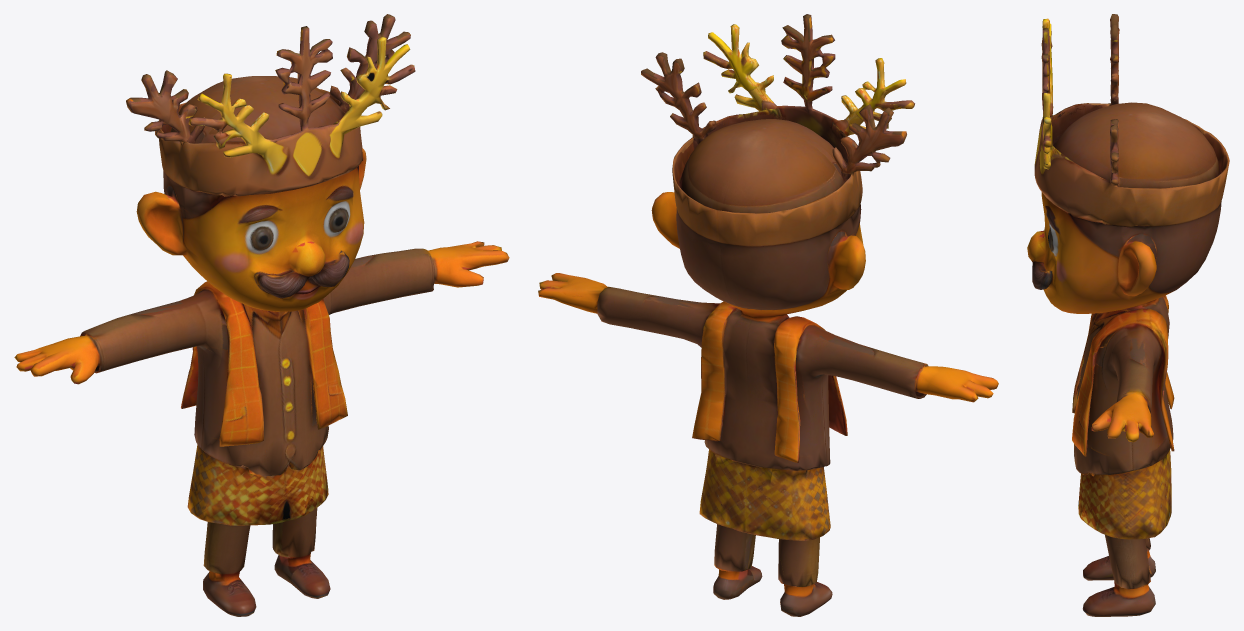
Rendered from Antler_Friend_0616205449_texture.glb.
3 renders of one model, left to right at view 1: azimuth 30°, elevation 25°; view 2: azimuth 150°, elevation 25°; view 3: azimuth 270°, elevation 25°, orthographic. The views are drawn at different scales.
Size of the model in its own units: 1.7 by 2 by 0.648.
1 material, 1 textured.
